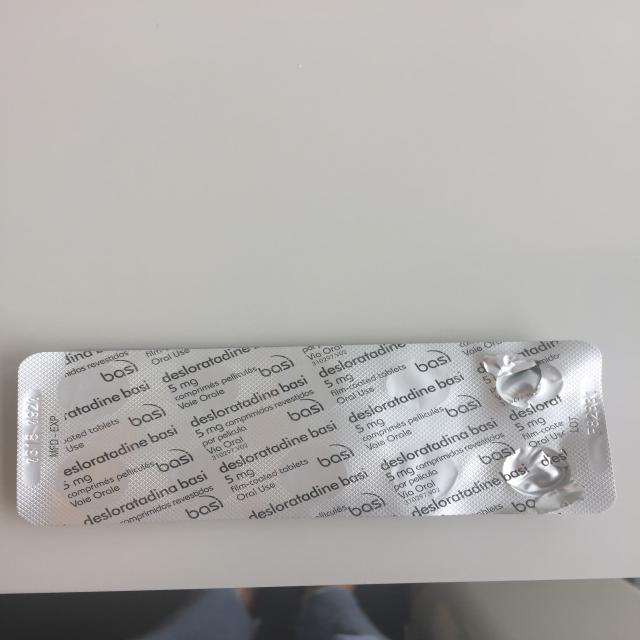Empty: (492, 442, 586, 509), (478, 352, 566, 417)
Pill: (45, 359, 138, 422), (43, 453, 135, 515), (154, 448, 241, 513), (378, 446, 467, 507), (270, 443, 357, 504), (160, 355, 243, 418), (270, 358, 352, 421), (379, 353, 456, 419)
